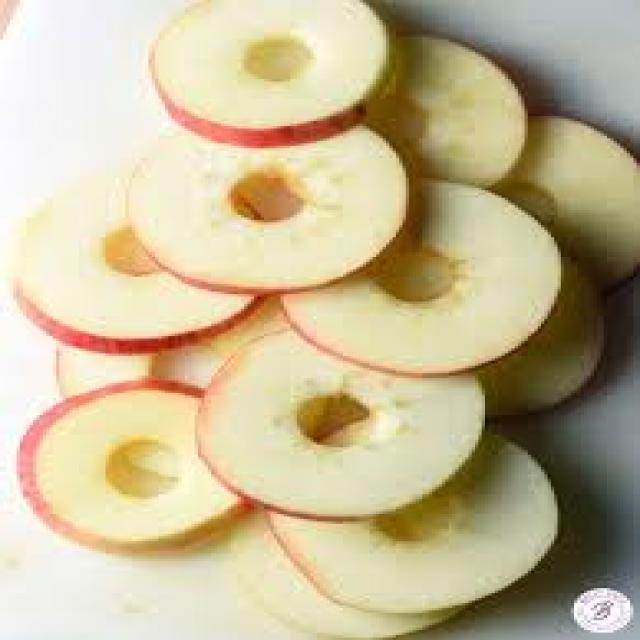Apple: (196, 335, 510, 513), (10, 174, 255, 347), (124, 140, 410, 286), (282, 466, 564, 603), (347, 190, 562, 366), (18, 391, 253, 549), (147, 1, 405, 142), (45, 344, 165, 402)
